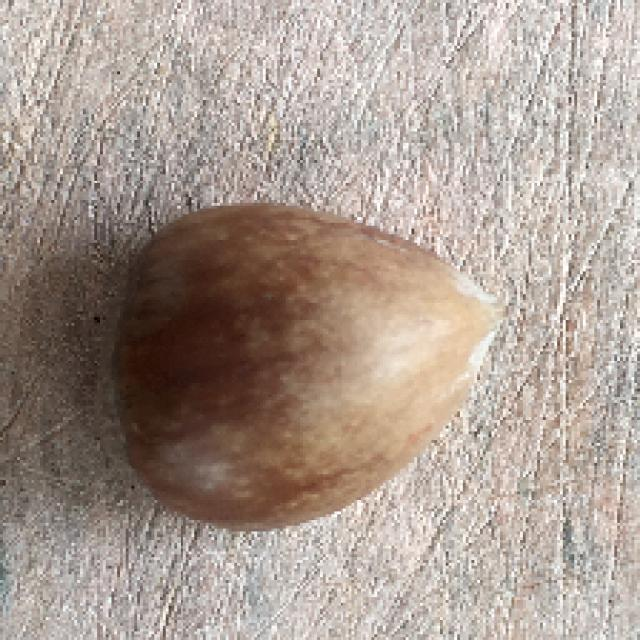qualityHazelnut: (110, 203, 496, 522)
